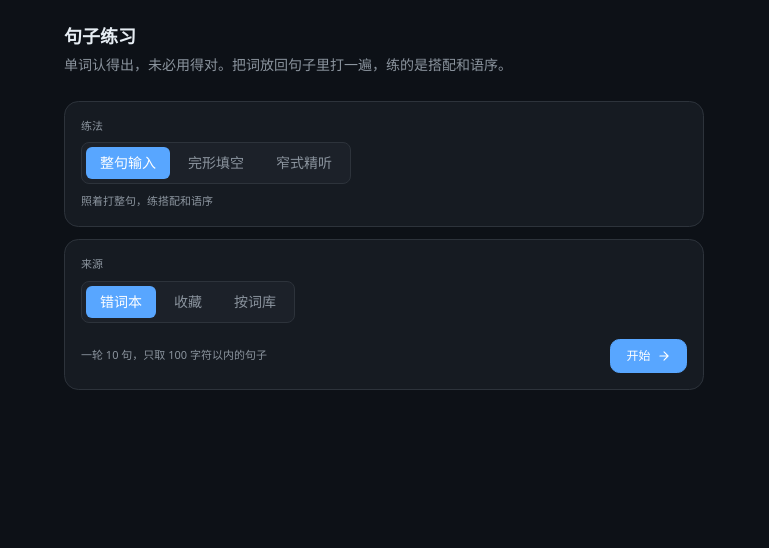
SentencesPage · 完形模式 › 完形模式不显示逐词对照（那是整句模式的东西）
Click the button "按词库". click: (255, 302)
box: [220,286,290,318]
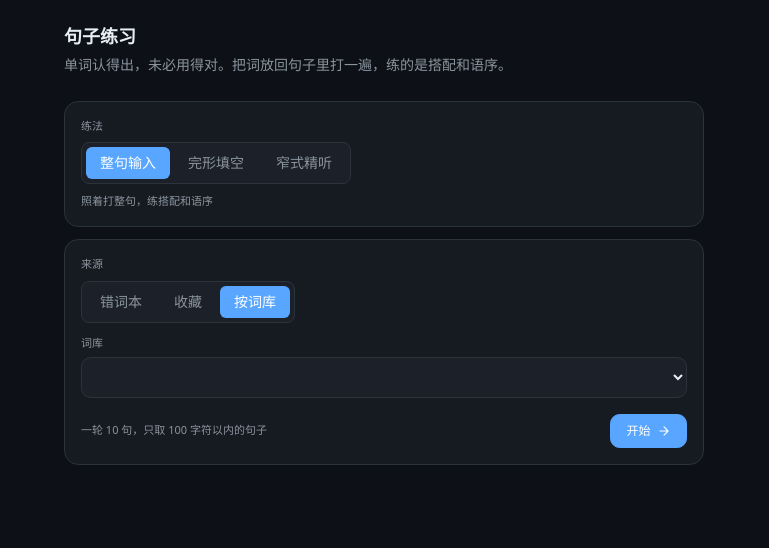
Click the button "完形填空". click: (216, 163)
box: [174,147,258,179]
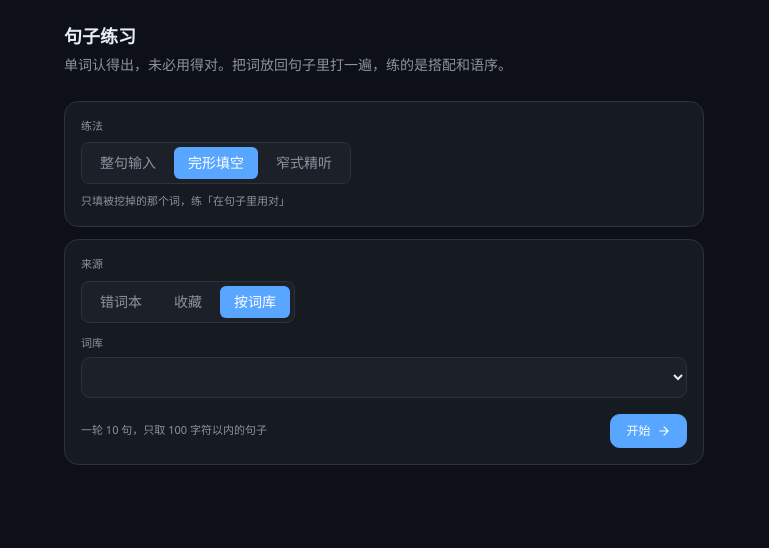
Click the button "开始". click: (649, 431)
box: [610,414,687,448]
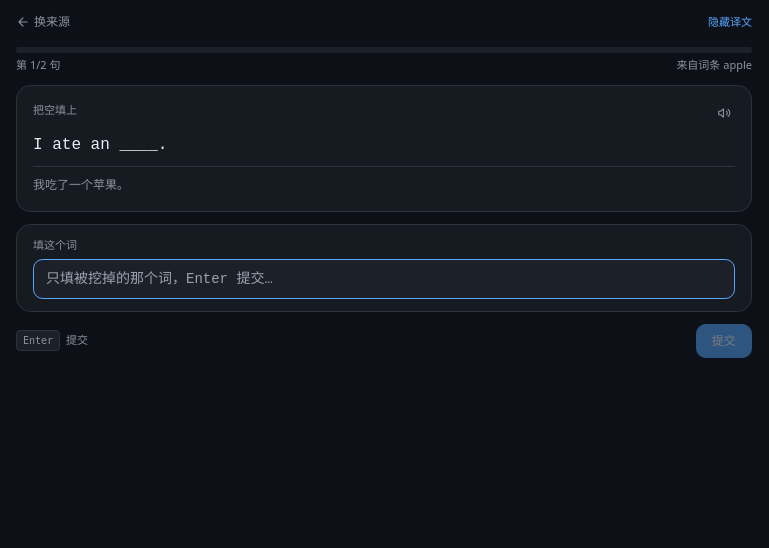
Result: the text "第 1/2 句" is shown at [16,56,60,73]
Type "wrongword" into the field named "填空答案". click: (384, 279)
box: [33,259,735,299]
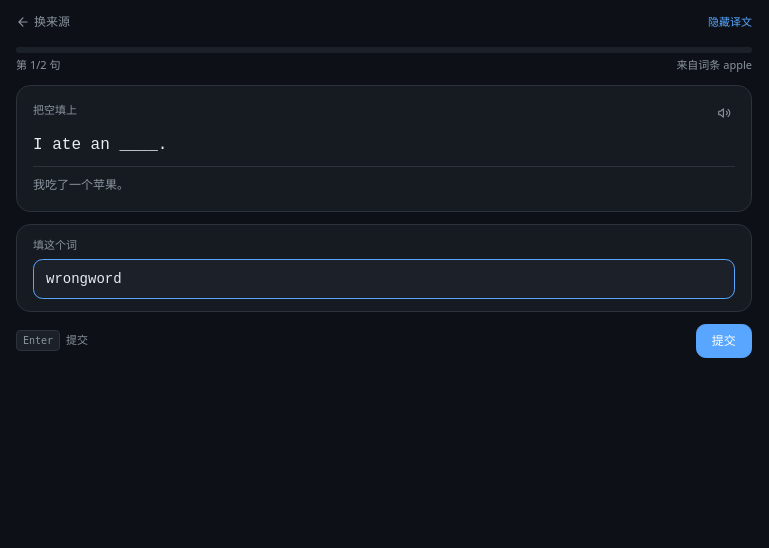
Press Enter in the field named "填空答案", box [33,259,735,299]
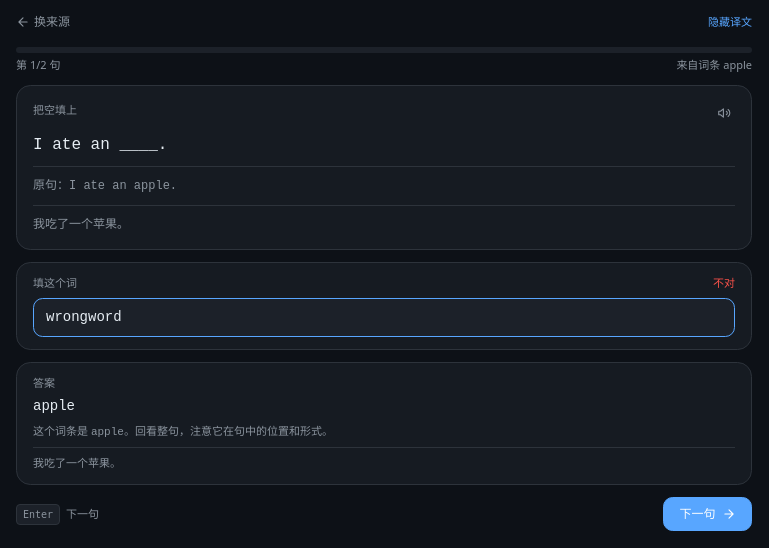
Result: the text "答案" is shown at [33,375,55,390]
